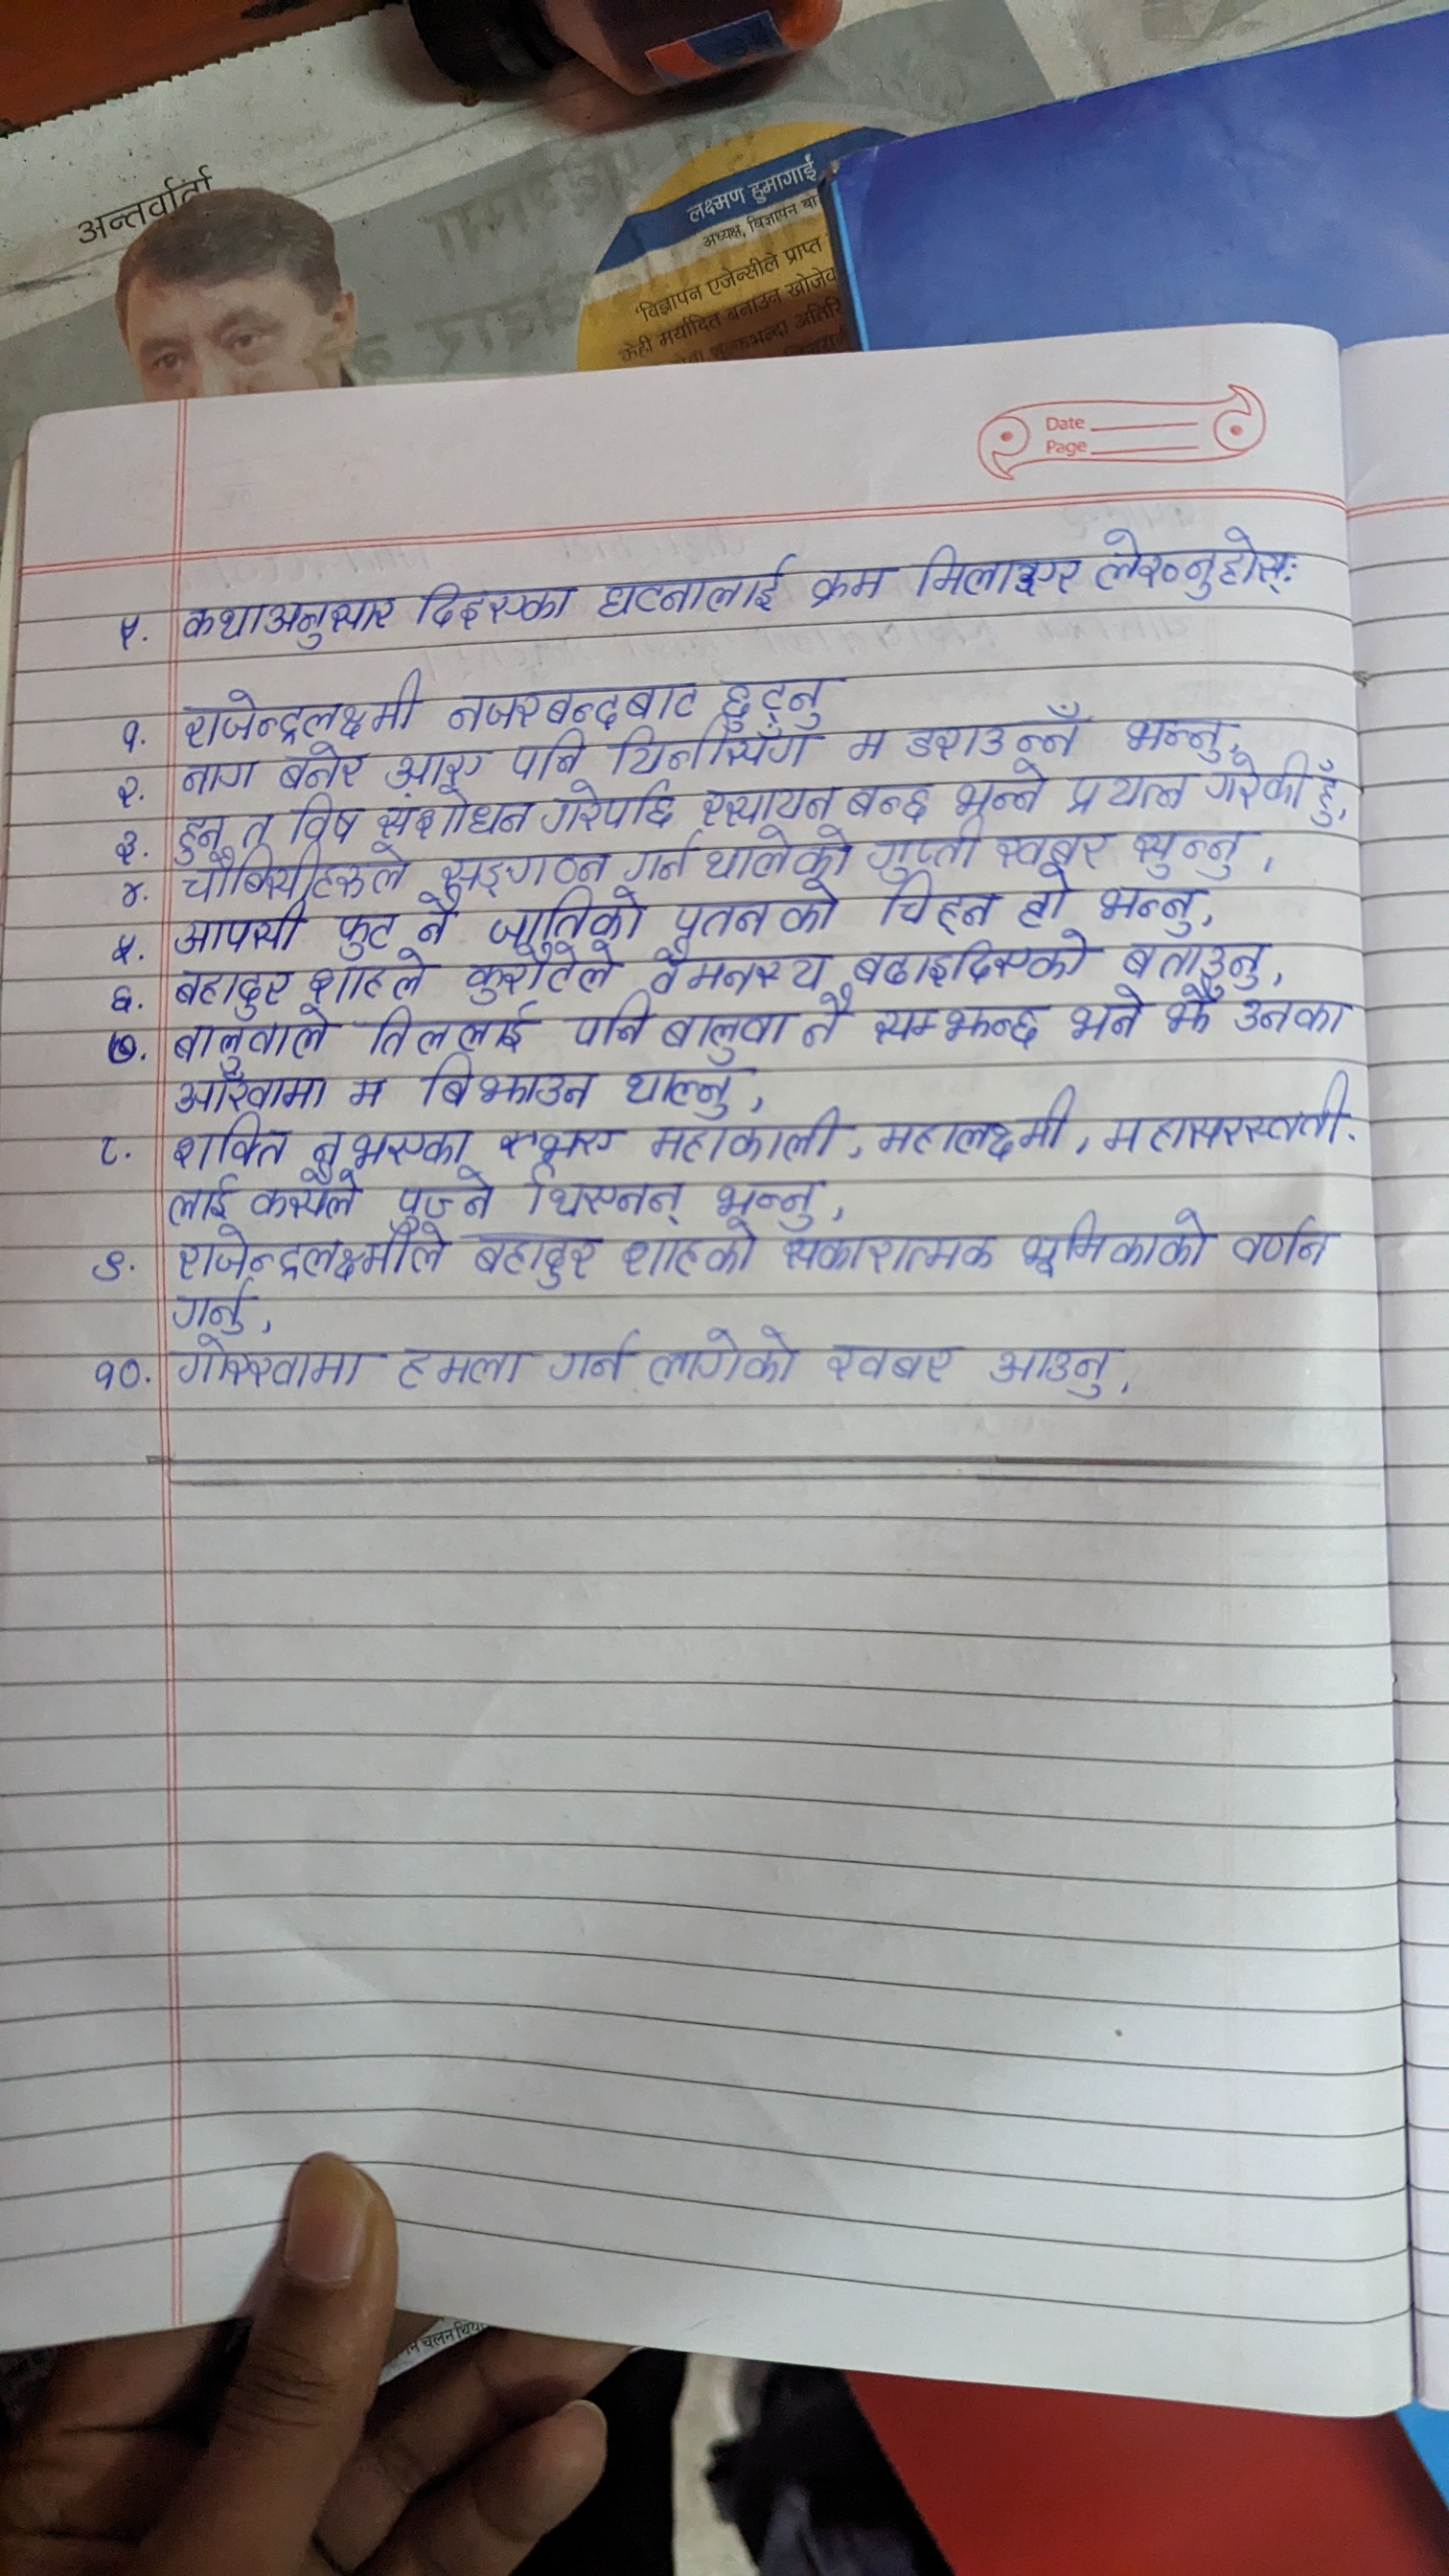text: (1100, 1072, 1362, 1157), (175, 669, 423, 745), (593, 543, 800, 626), (1086, 520, 1292, 600), (869, 1086, 1079, 1161), (170, 1224, 444, 1281), (1016, 1205, 1215, 1279), (168, 1334, 384, 1394), (175, 596, 400, 653), (442, 679, 699, 729), (853, 934, 1100, 985), (182, 849, 418, 901), (349, 1003, 547, 1062), (648, 1320, 801, 1394), (412, 1053, 602, 1113), (899, 699, 1079, 761), (407, 571, 580, 635), (911, 536, 1083, 600), (867, 998, 1051, 1054), (610, 727, 817, 777), (522, 1162, 692, 1223), (648, 1115, 849, 1164), (985, 1332, 1120, 1405), (649, 939, 830, 993), (393, 1332, 543, 1396), (458, 945, 623, 1000), (170, 1010, 340, 1063), (773, 1235, 1001, 1274), (817, 1332, 968, 1391), (488, 890, 651, 943), (671, 883, 842, 932), (617, 1221, 761, 1279), (465, 1228, 596, 1290), (706, 826, 853, 881), (173, 901, 315, 957), (660, 1005, 796, 1063), (540, 775, 681, 830), (154, 1113, 295, 1168), (375, 789, 534, 837), (1230, 1212, 1341, 1277), (879, 876, 1003, 934), (435, 847, 610, 888), (308, 952, 441, 1003), (548, 1316, 642, 1389), (310, 1123, 476, 1164), (617, 1065, 754, 1115), (717, 667, 839, 722), (166, 1072, 329, 1113), (387, 1164, 504, 1219), (1118, 938, 1269, 980), (1129, 824, 1244, 879), (1062, 766, 1192, 814), (1095, 879, 1205, 934), (1067, 982, 1155, 1049), (251, 1168, 363, 1221), (708, 1173, 832, 1221), (168, 964, 294, 1010), (1231, 994, 1352, 1042), (1123, 706, 1231, 757), (695, 786, 837, 824), (566, 993, 660, 1051), (869, 826, 984, 872), (1205, 761, 1307, 812), (950, 761, 1049, 814), (805, 556, 901, 610), (994, 826, 1111, 867), (844, 778, 938, 826), (619, 830, 701, 883), (172, 1279, 249, 1332), (386, 745, 487, 786), (801, 987, 860, 1056), (166, 1171, 239, 1224), (1164, 982, 1226, 1044), (90, 1336, 152, 1396), (285, 791, 363, 839), (1017, 863, 1076, 927), (502, 729, 582, 775), (278, 747, 363, 789), (538, 1118, 617, 1161), (1315, 752, 1352, 837), (329, 906, 398, 950), (177, 755, 257, 791), (414, 888, 464, 945), (108, 607, 154, 660), (87, 1240, 134, 1290), (85, 1125, 138, 1169), (96, 766, 149, 809), (108, 708, 156, 754), (175, 809, 225, 849), (846, 718, 888, 764), (104, 1023, 145, 1069), (345, 1069, 391, 1109), (108, 823, 147, 865), (106, 922, 149, 961), (106, 971, 140, 1014), (119, 874, 154, 913), (239, 810, 274, 846)
